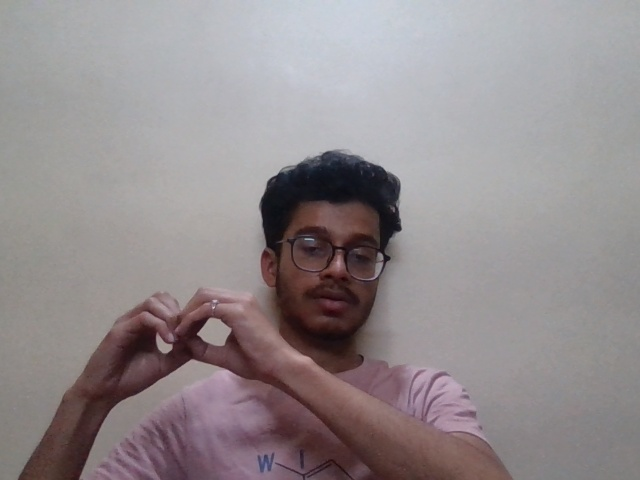see: (92, 284, 295, 407)
